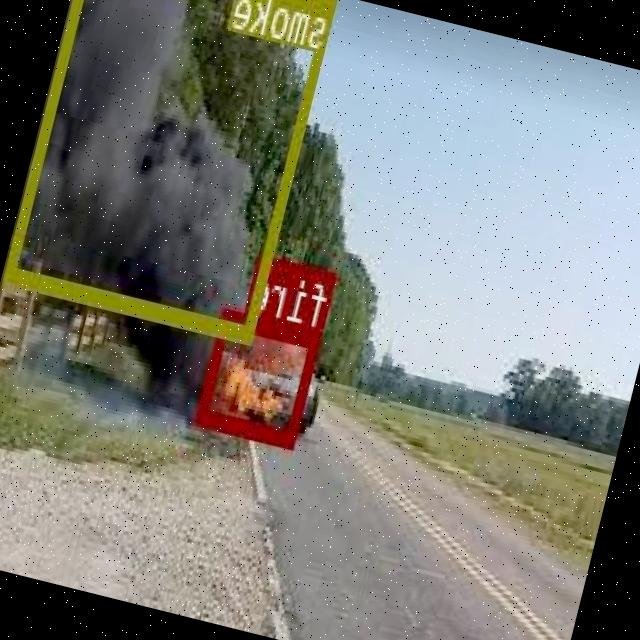fire: (198, 306, 324, 448)
smoke: (4, 0, 338, 342)
